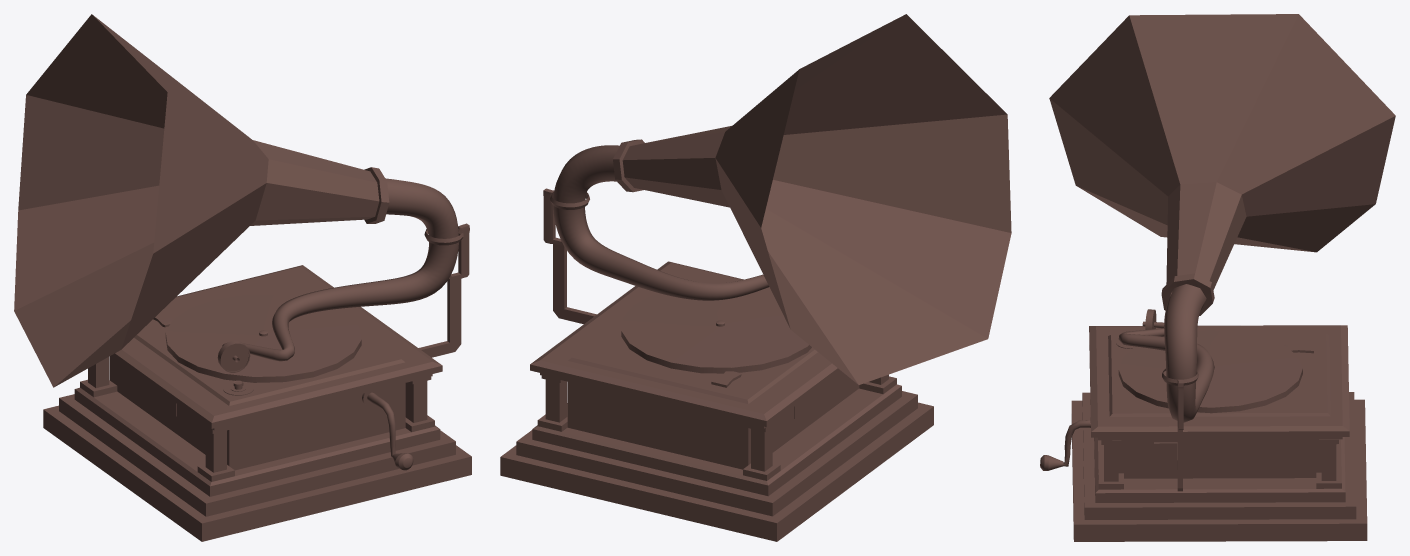
The model's file is MusicPlayer_low 1.fbx.
The picture shows the model from 3 angles, left to right: view 1: azimuth 30°, elevation 25°; view 2: azimuth 150°, elevation 25°; view 3: azimuth 270°, elevation 25°; orthographic projection. The views are drawn at different scales.
Visible parts, largest first — view 1: head_low, Bodyplayer_low, Player_low, Curve_low, Columns_low, BackParts_low, BigCylinder_low, SmollCurve_low; view 2: head_low, Bodyplayer_low, Player_low, Curve_low, Columns_low, BackParts_low; view 3: head_low, Bodyplayer_low, Player_low, Curve_low, Columns_low, BackParts_low.
Part boxes in pixels (x1,y1,x2,y2): head_low: (14,14,389,387); Bodyplayer_low: (43,265,471,541); Player_low: (165,294,361,382); Curve_low: (222,178,458,362); Columns_low: (80,357,434,481); BackParts_low: (418,223,469,357); BigCylinder_low: (217,340,250,372); SmollCurve_low: (367,392,395,457); head_low: (613,14,1011,384); Bodyplayer_low: (500,261,933,541); Player_low: (621,288,811,373); Curve_low: (553,145,769,300); Columns_low: (537,374,896,480); BackParts_low: (543,188,596,324); head_low: (1049,14,1395,315); Bodyplayer_low: (1071,325,1367,541); Player_low: (1118,330,1302,413); Curve_low: (1118,284,1214,422); Columns_low: (1098,439,1341,489); BackParts_low: (1154,368,1198,491).
Size of the model in its own units: 79.78 by 78.15 by 61.59.
